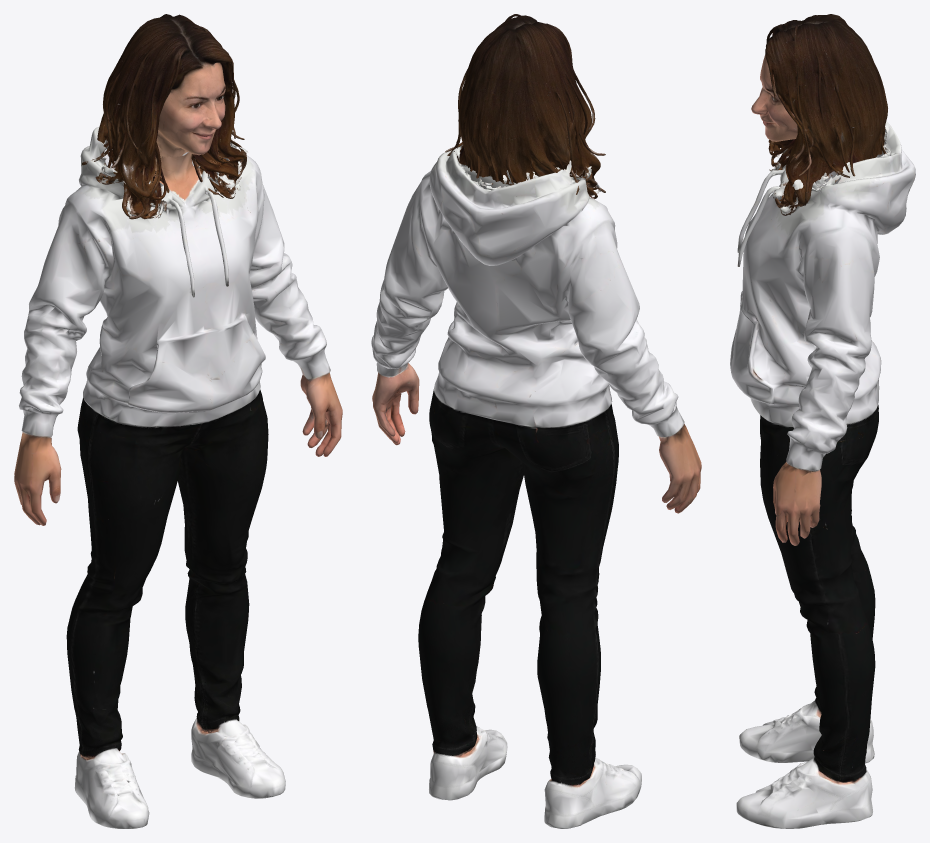
The model's file is hoodie-woman.glb.
3 renders of one model, left to right at view 1: azimuth 30°, elevation 25°; view 2: azimuth 150°, elevation 25°; view 3: azimuth 270°, elevation 25°, orthographic.
Size of the model in its own units: 0.4366 by 0.9998 by 0.2187.
Materials: 2 (2 with a texture image).
